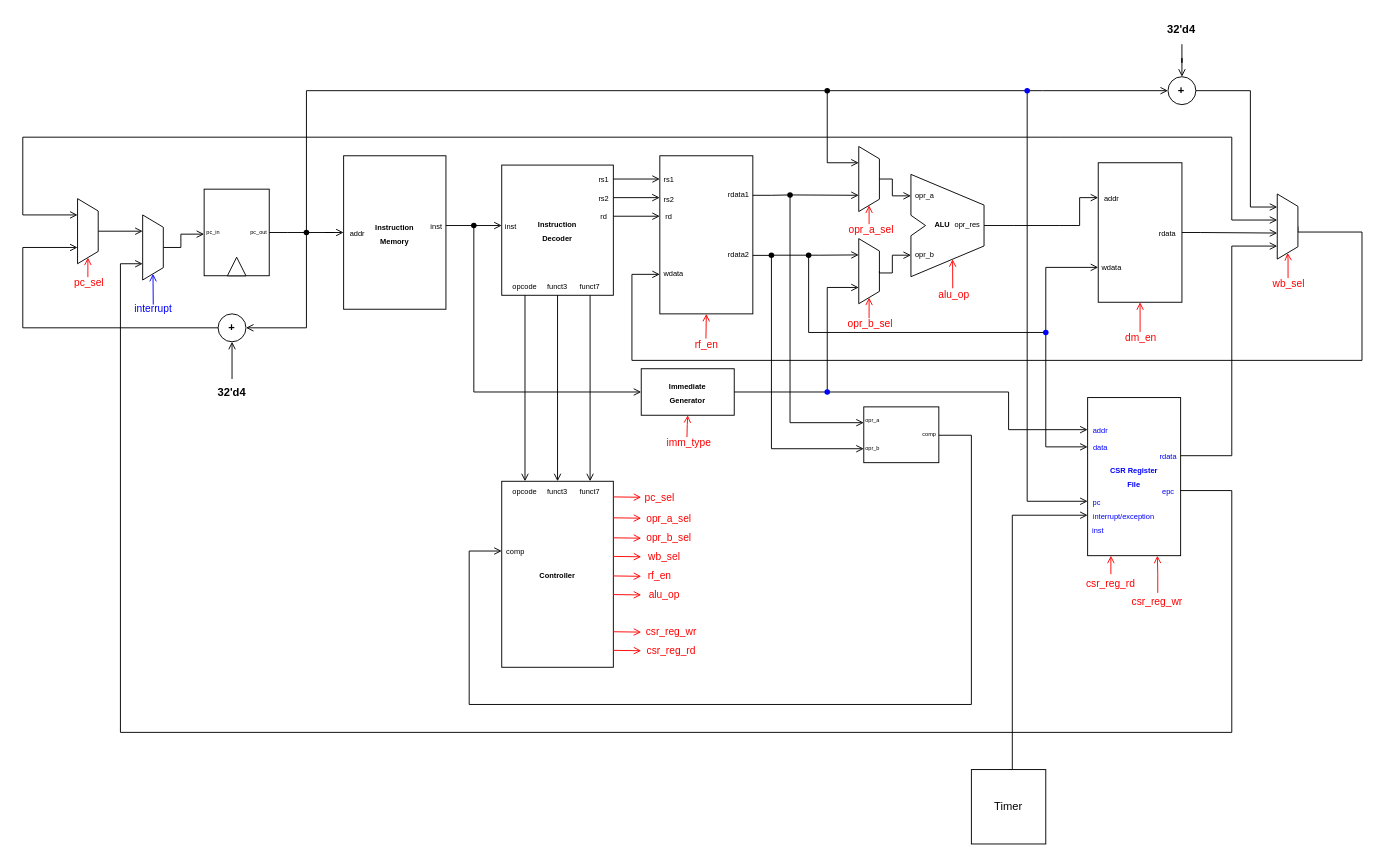
Some shapes in this 1386 by 860 pixel diagram are drawn without their labels. Here are the shapes that lost their labels. From the top down, the box of each, then its label:
(203, 188, 269, 276): Program Counter
(659, 155, 753, 314): Register File
(1097, 162, 1182, 302): Data Memory
(863, 406, 939, 463): Branch Comparator
